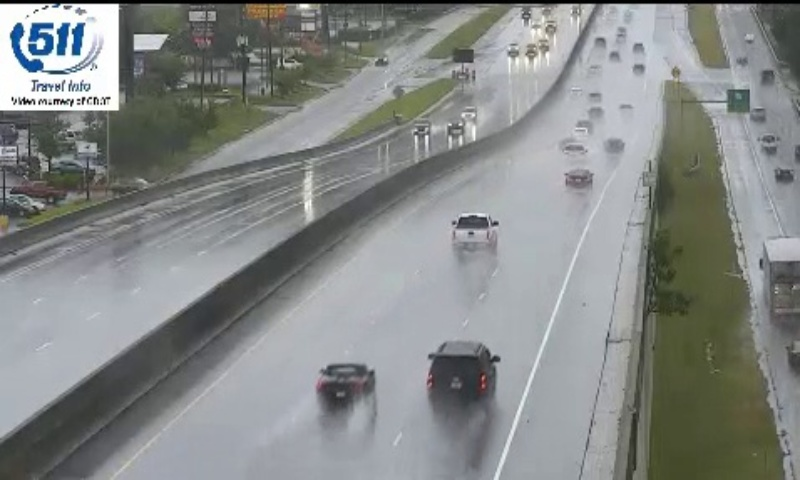car: (424, 341, 495, 402), (317, 363, 374, 411), (452, 213, 497, 249), (564, 168, 593, 188)
